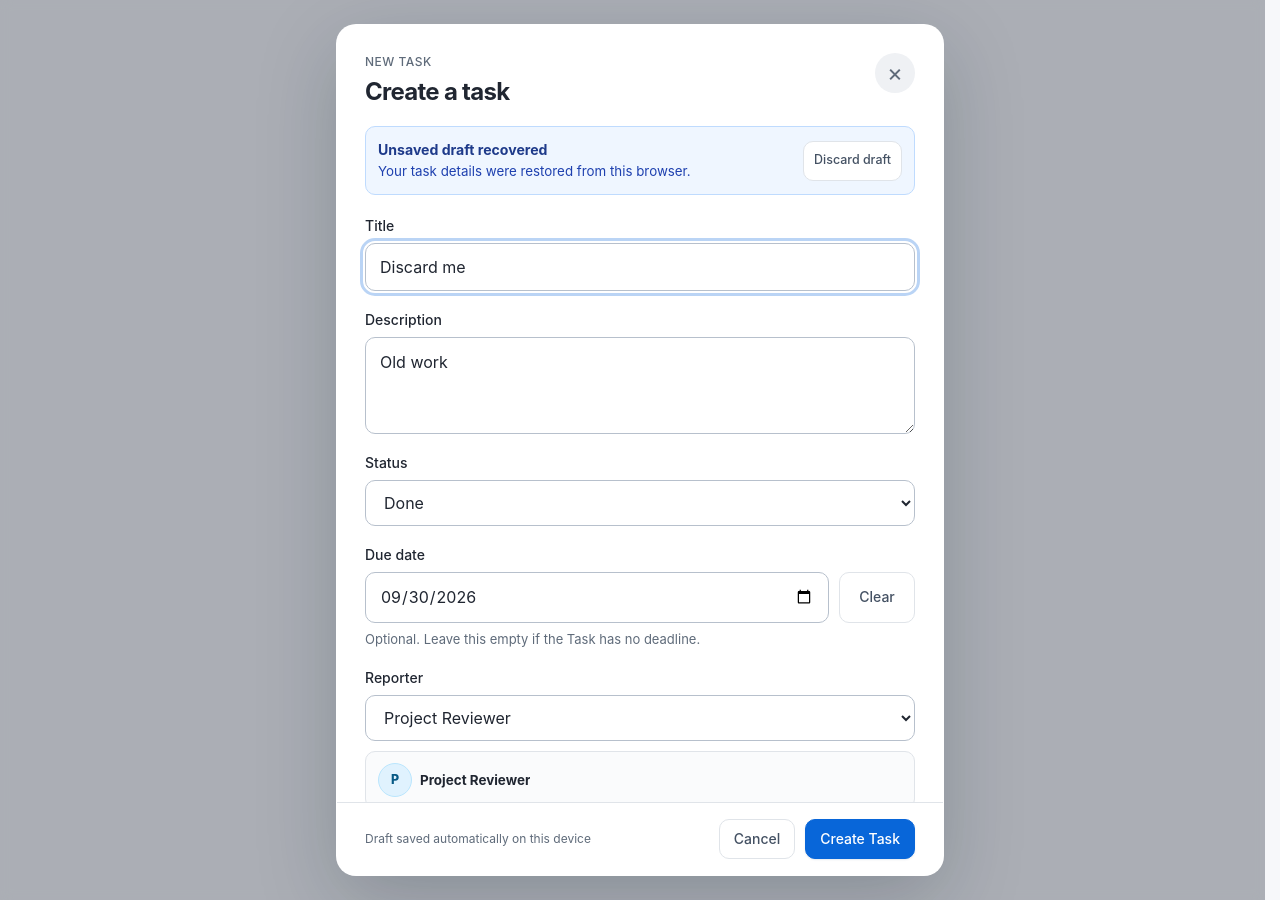
Test: Task form › lets the user discard a recovered draft and start clean
The image size is (1280, 900).
Click the button "Discard draft".
click(852, 160)  # box x1=803 y1=140 x2=902 y2=180
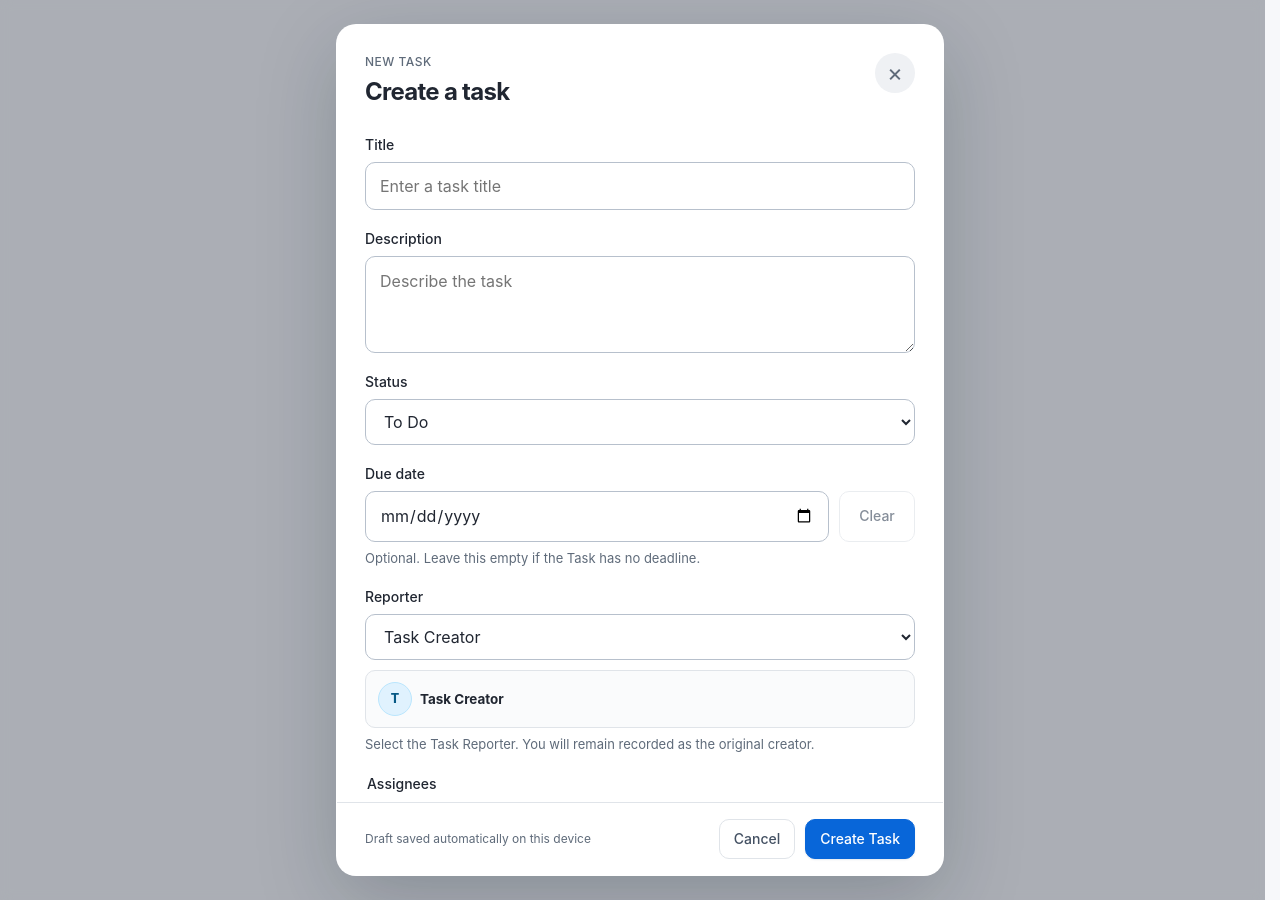
Check: the field labelled "Title" is empty, box x1=365 y1=162 x2=915 y2=210
Check: the text box labelled "Description" is empty, box x1=365 y1=256 x2=915 y2=353
Check: the dropdown labelled "Status" shows "To Do", box x1=365 y1=399 x2=915 y2=445
